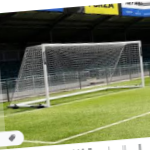goals: (10, 39, 145, 111)
